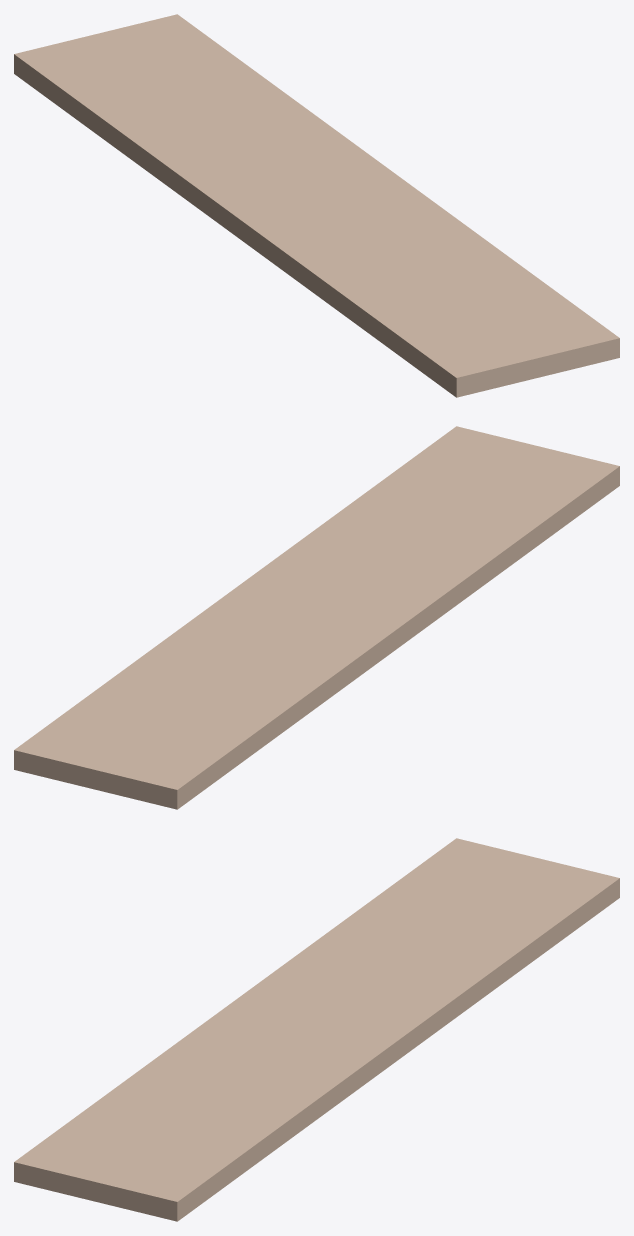
Rendered from BC_Ceiling_A_01.fbx.
3 renders of one model, top to bottom at view 1: azimuth 30°, elevation 25°; view 2: azimuth 150°, elevation 25°; view 3: azimuth 330°, elevation 25°, orthographic.
Parts seen in each view (by area): view 1: BC_Ceiling_A_01; view 2: BC_Ceiling_A_01; view 3: BC_Ceiling_A_01.
Part boxes in pixels (bbox=[...]): BC_Ceiling_A_01: bbox=[14, 14, 619, 397]; BC_Ceiling_A_01: bbox=[14, 426, 619, 809]; BC_Ceiling_A_01: bbox=[14, 838, 619, 1221].
Size of the model in its own units: 721 by 83.13 by 3381.
